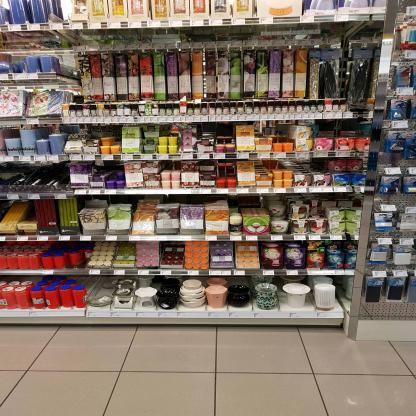Void: (321, 120, 356, 134), (218, 123, 230, 136), (201, 123, 213, 134)
